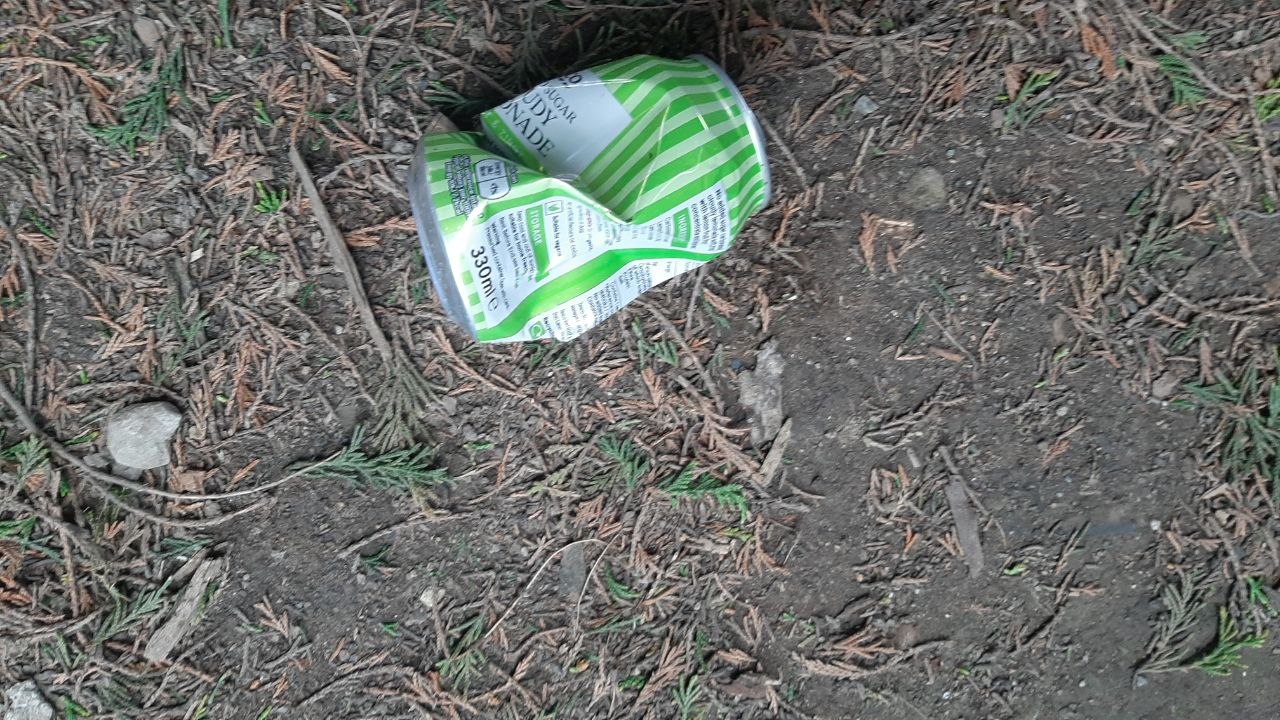Can: (408, 53, 770, 344)
